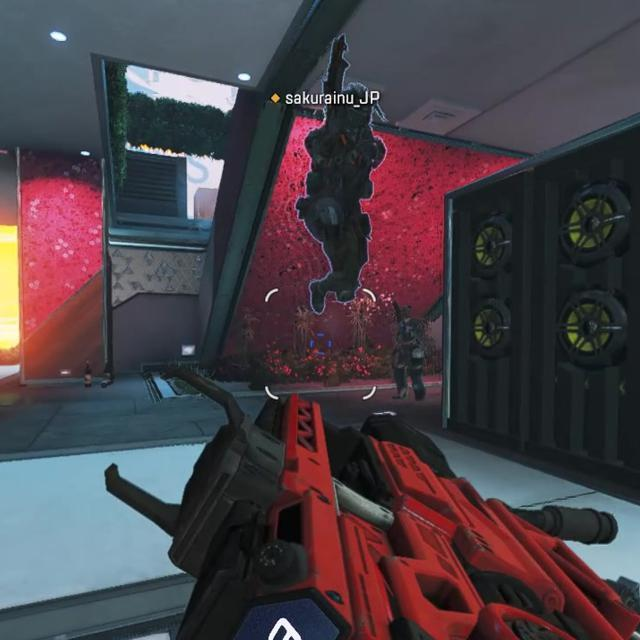avatar: (293, 83, 387, 314), (387, 301, 429, 404)
